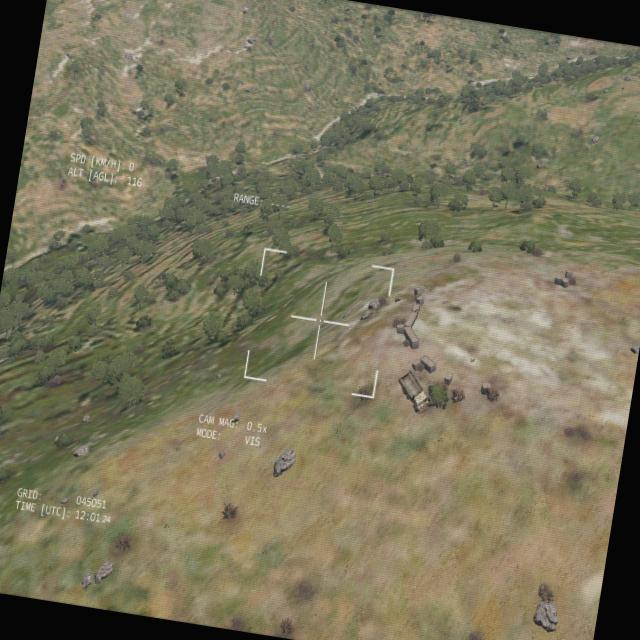truck: (394, 366, 434, 415)
